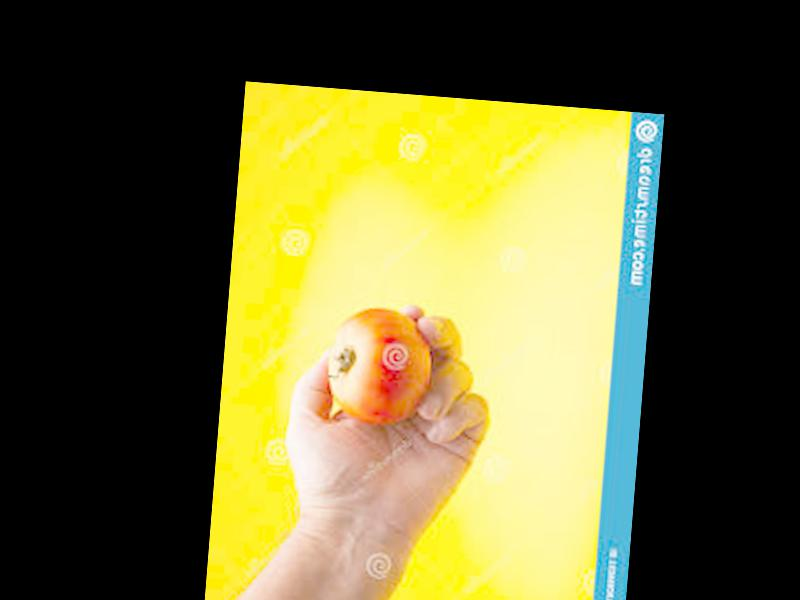Tomato: (325, 305, 435, 427)
